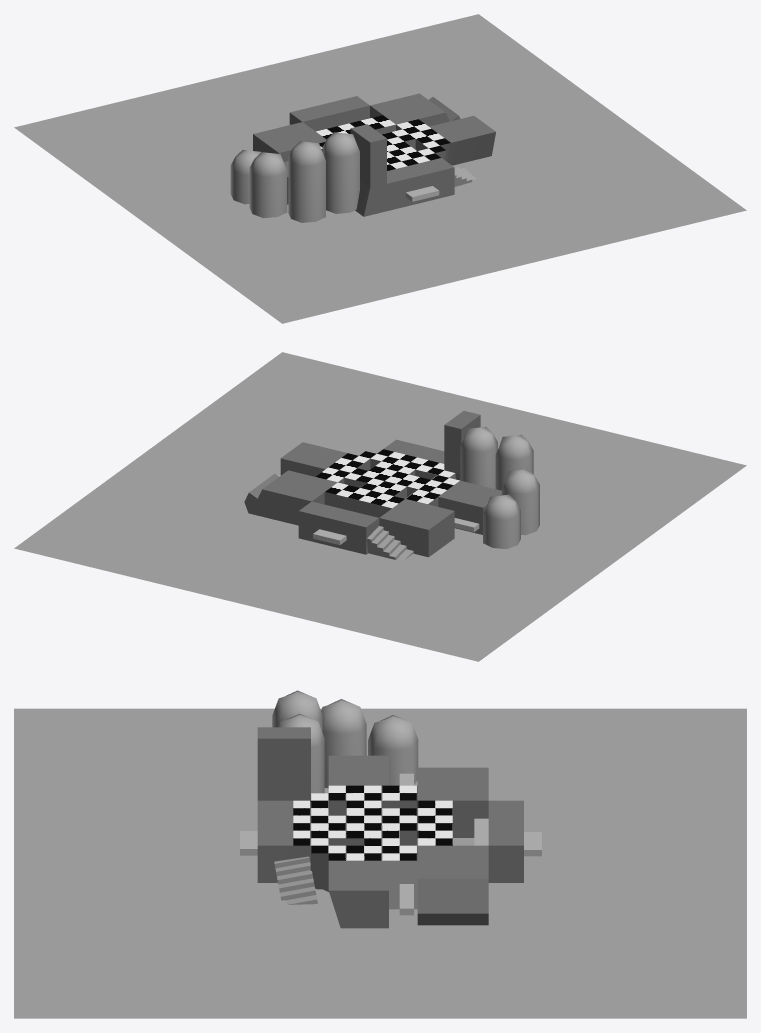
File: N3Sala1_Dressed.fbx
The picture shows the model from 3 angles, top to bottom: view 1: azimuth 30°, elevation 25°; view 2: azimuth 150°, elevation 25°; view 3: azimuth 270°, elevation 25°; orthographic projection. The views are drawn at different scales.
Visible parts, largest first — view 1: Fondo, Ground, pCube71, pCube70, pCube72, pCube73; view 2: Fondo, Ground, pCube70, pCube73, pCube72, pCube71, pCube67; view 3: Fondo, Ground, pCube73, pCube72, pCube68, pCube70, pCube71.
Boxes of the visible parts, x1=… form: Fondo: x1=14, y1=14, x2=746, y2=323; Ground: x1=253, y1=93, x2=495, y2=216; pCube71: x1=288, y1=141, x2=325, y2=222; pCube70: x1=322, y1=132, x2=359, y2=213; pCube72: x1=249, y1=152, x2=287, y2=218; pCube73: x1=230, y1=150, x2=260, y2=204; Fondo: x1=14, y1=352, x2=746, y2=661; Ground: x1=244, y1=411, x2=501, y2=557; pCube70: x1=460, y1=426, x2=497, y2=488; pCube73: x1=483, y1=494, x2=520, y2=548; pCube72: x1=502, y1=469, x2=539, y2=535; pCube71: x1=495, y1=434, x2=533, y2=490; pCube67: x1=367, y1=526, x2=413, y2=560; Fondo: x1=14, y1=708, x2=746, y2=1018; Ground: x1=257, y1=727, x2=523, y2=928; pCube73: x1=368, y1=715, x2=418, y2=785; pCube72: x1=321, y1=699, x2=366, y2=788; pCube68: x1=274, y1=856, x2=317, y2=904; pCube70: x1=279, y1=713, x2=324, y2=793; pCube71: x1=272, y1=690, x2=322, y2=732.
Bounding box in the file's own units: 103 × 21.59 × 103.
